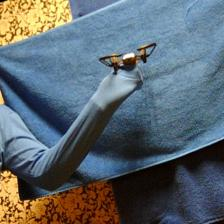drone: (100, 42, 158, 72)
